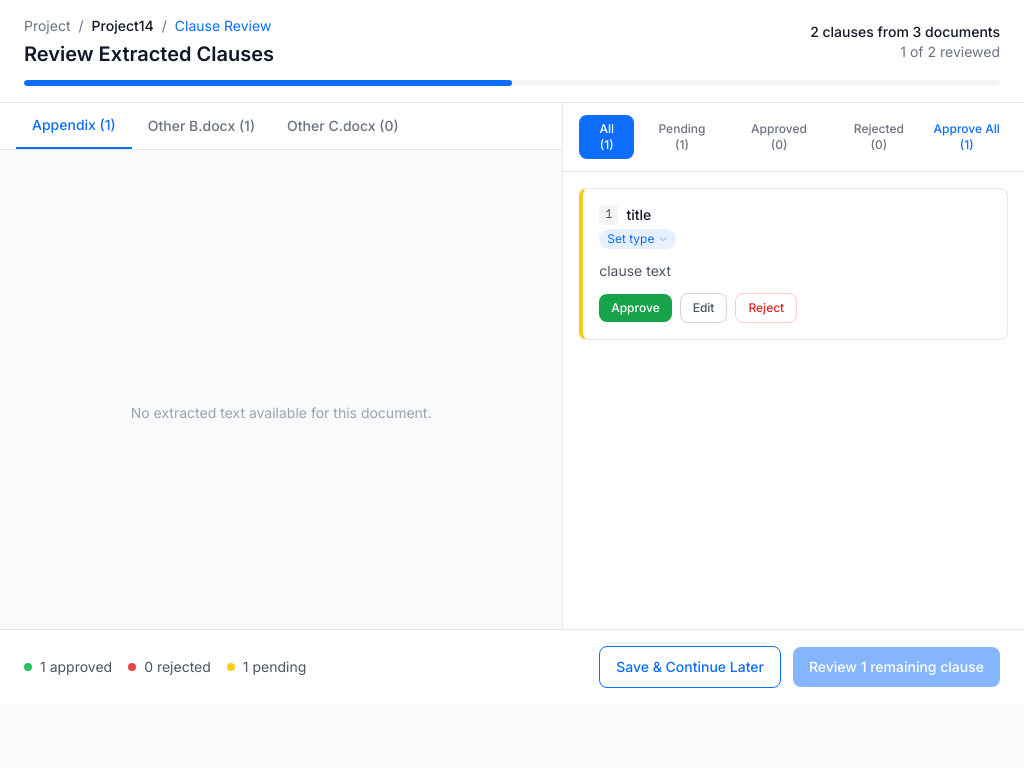
Scenario: ClauseReviewPage — document tabs (Issue 3) › a zero-clause document keeps its tab and shows the empty state when selected
Click the button with test id "doc-tab" showing "Other C.docx (0)" at x=343, y=126, box [271,103,415,149]
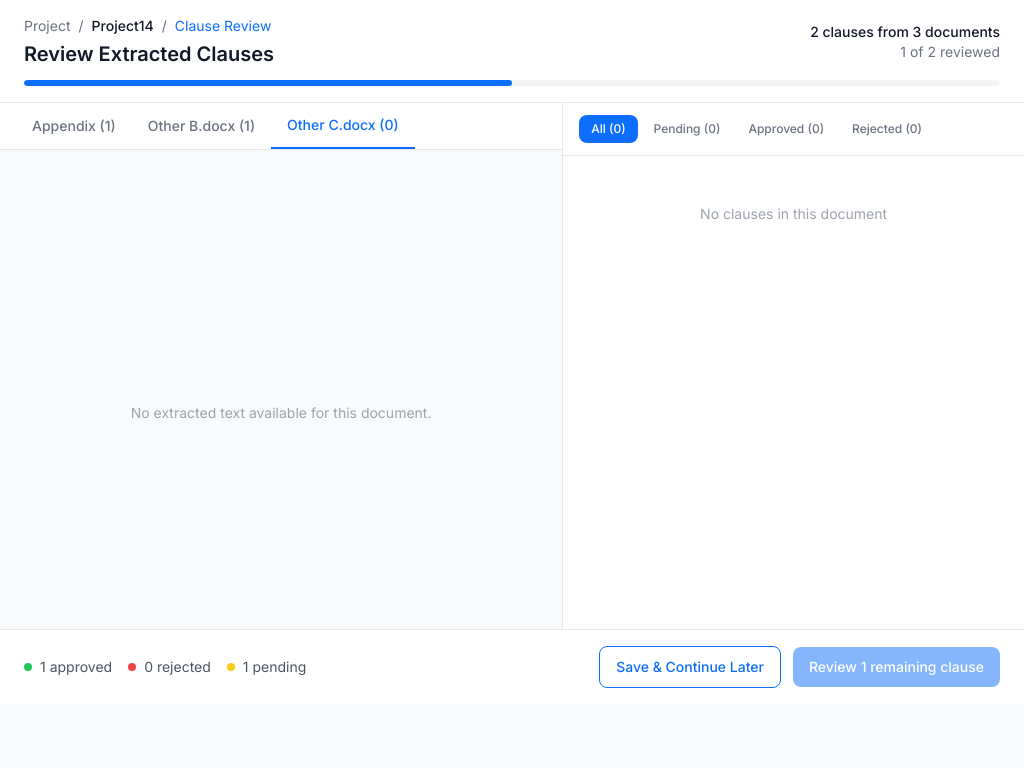
Result: the text "No clauses in this document" is shown at [700,205,887,222]
